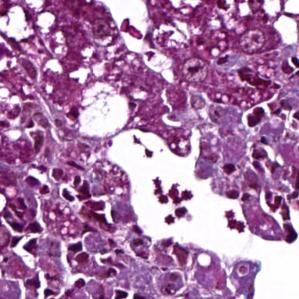ballooning: (75, 78, 132, 140)
